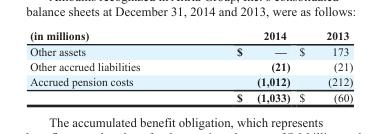table: (29, 29, 352, 103)
table column: (29, 29, 187, 103), (187, 29, 294, 103), (294, 29, 352, 103)
table column header: (29, 29, 352, 43)
table row: (29, 73, 352, 89), (29, 43, 352, 58), (29, 58, 352, 73), (29, 29, 352, 43), (29, 89, 352, 103)
